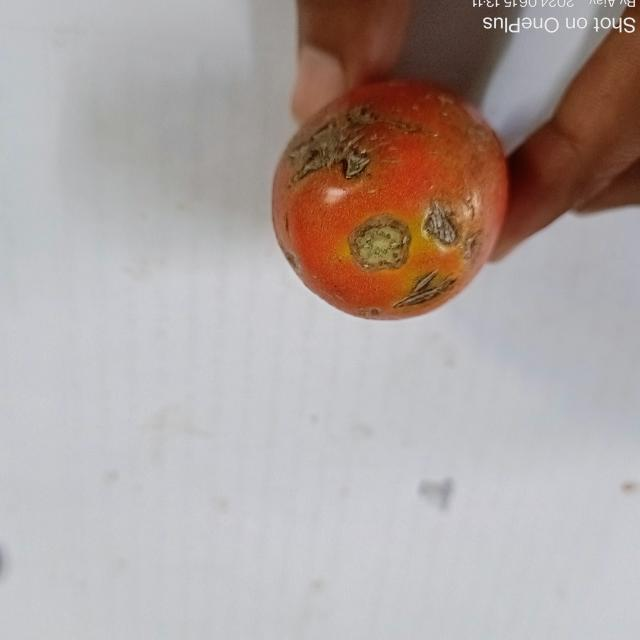Bacterial_Spot: (282, 110, 372, 188), (395, 272, 461, 310), (422, 209, 464, 245)
